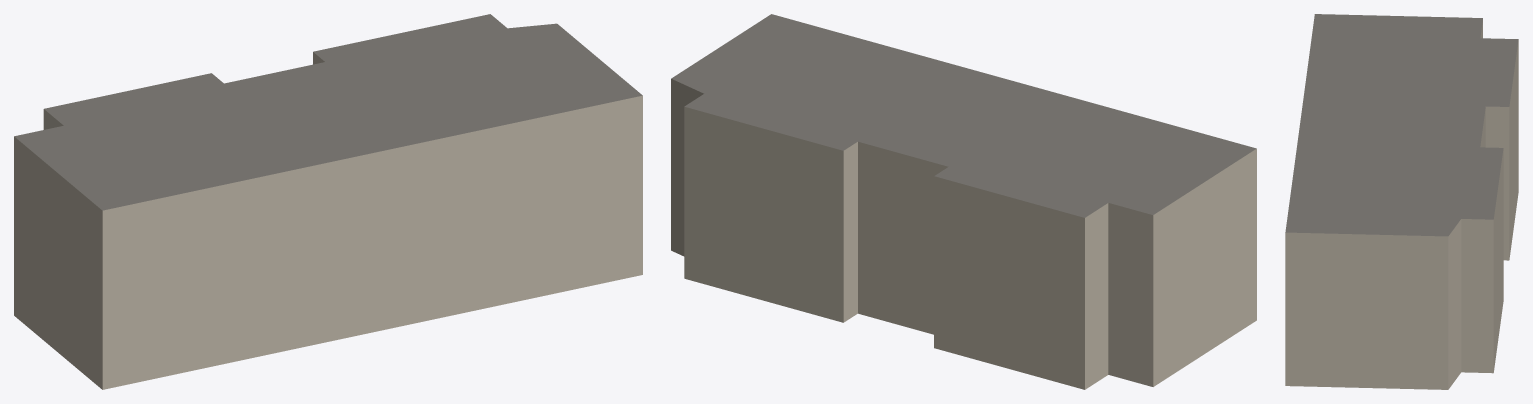
3 views of the same model, side by side, from view 1: azimuth 30°, elevation 25°; view 2: azimuth 150°, elevation 25°; view 3: azimuth 270°, elevation 25° (orthographic). The views are drawn at different scales.
Visible parts, largest first — view 1: HP-w734461622; view 2: HP-w734461622; view 3: HP-w734461622.
Boxes of the visible parts, box(x1,y1,x2,y2) form: HP-w734461622: box(14, 14, 642, 389); HP-w734461622: box(671, 14, 1256, 389); HP-w734461622: box(1285, 14, 1518, 389).
Bounding box in the file's own units: 55.95 × 18 × 24.78.
